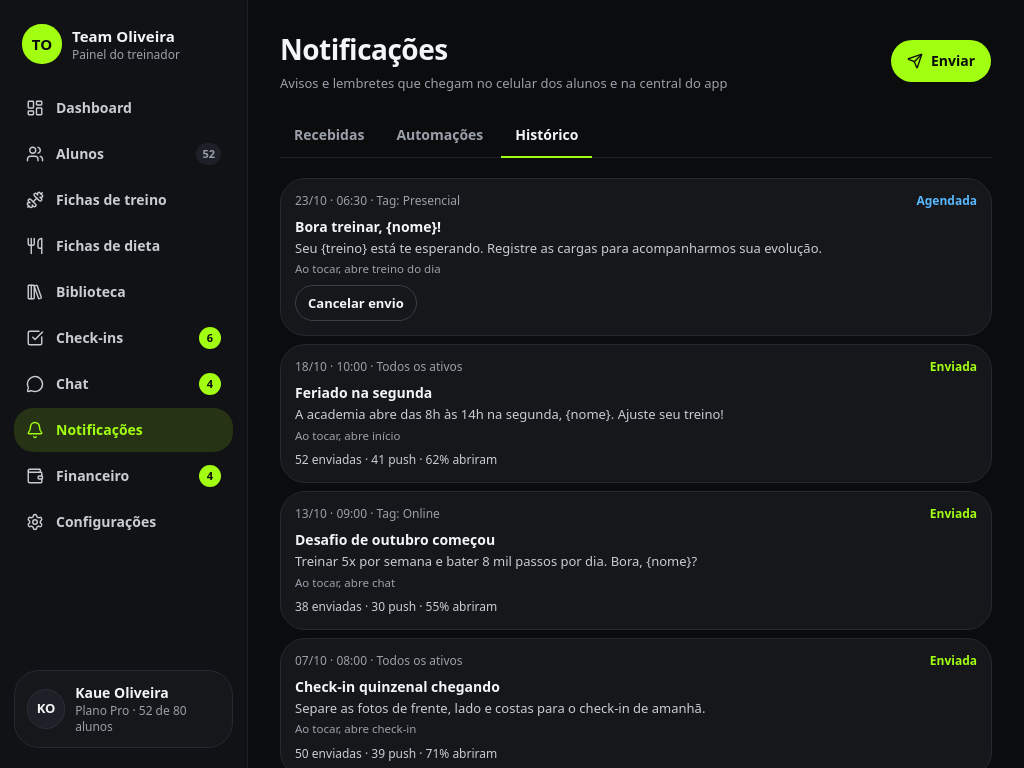
Test case: Notificações (celular) › histórico: cancelar envio agendado
This screenshot has width=1024, height=768.
Check: the list item that starts with "Tag: Presencial" shows "Agendada", box [916,192,977,208]
Check: the text "52 enviadas · 41 push · 62% abriram" is shown, box [280,344,992,483]
Click the button "Cancelar envio".
click(356, 303)  # box [295,285,417,321]
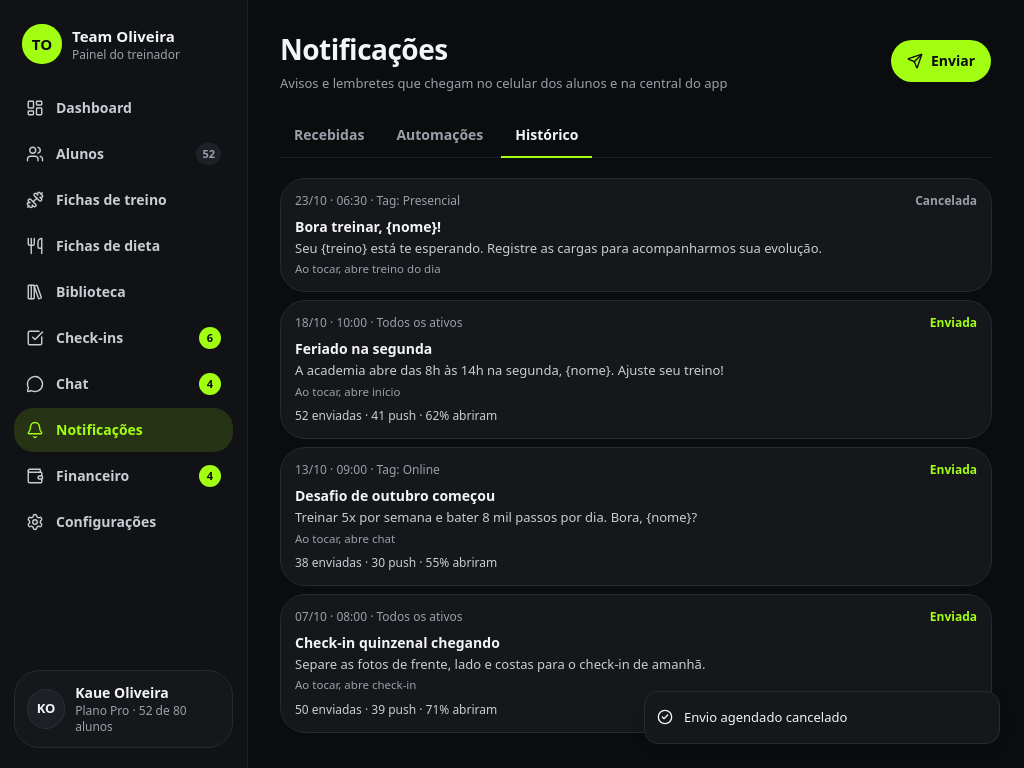
Check: the text "Envio agendado cancelado" is shown, box [684,708,847,727]
Check: the list item that starts with "Tag: Presencial" shows "Cancelada", box [915,192,977,208]
